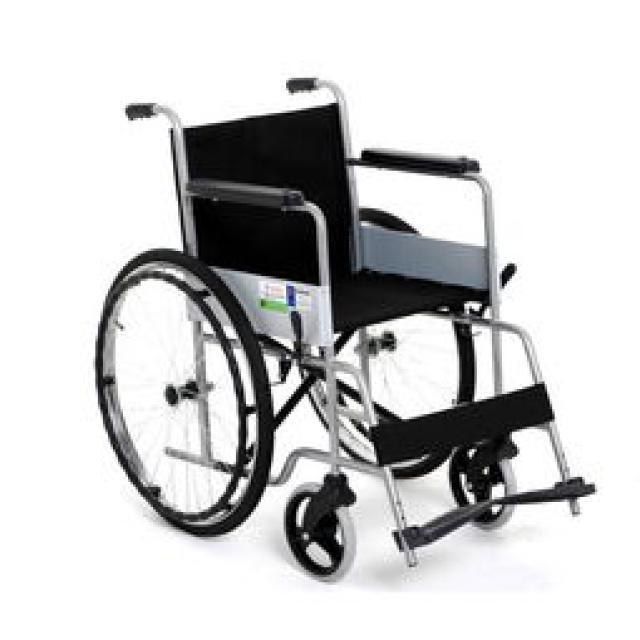wheelchair: (78, 75, 605, 582)
